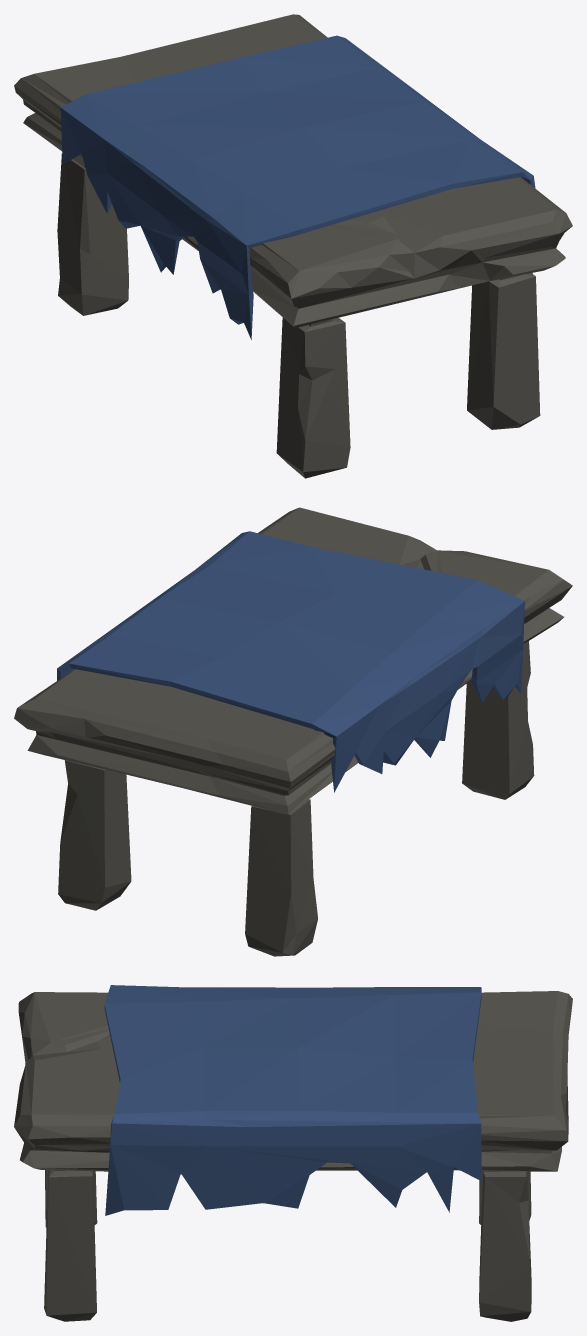
File: MDungeon_StoneTable.FBX
3 views of the same model, one above another, from view 1: azimuth 30°, elevation 25°; view 2: azimuth 150°, elevation 25°; view 3: azimuth 270°, elevation 25° (orthographic).
Parts seen in each view (by area): view 1: MDungeon_StoneTable_LOD0; view 2: MDungeon_StoneTable_LOD0; view 3: MDungeon_StoneTable_LOD0.
Part boxes in pixels (<box>): MDungeon_StoneTable_LOD0: <box>14,14,572,478</box>; MDungeon_StoneTable_LOD0: <box>14,507,572,956</box>; MDungeon_StoneTable_LOD0: <box>14,985,572,1321</box>.
Size of what is drawn, in the model's own units: 1.21 by 0.9082 by 2.04.
Materials: 1 (1 with a texture image).
